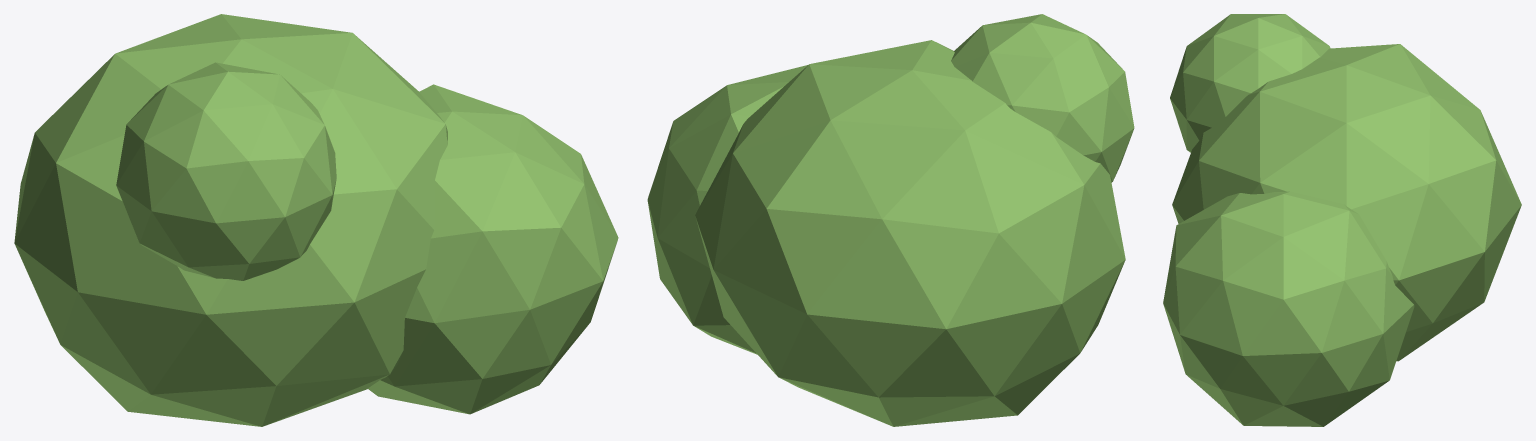
The model's file is bush.glb.
3 renders of one model, left to right at view 1: azimuth 30°, elevation 25°; view 2: azimuth 150°, elevation 25°; view 3: azimuth 270°, elevation 25°, orthographic. The views are drawn at different scales.
Visible parts, largest first — view 1: meadow-bush; view 2: meadow-bush; view 3: meadow-bush.
Part boxes in pixels (x1,y1,x2,y2): meadow-bush: (14, 14, 618, 426); meadow-bush: (647, 14, 1134, 426); meadow-bush: (1163, 14, 1521, 426).
Bounding box in the file's own units: 0.7167 × 0.5408 × 0.5683.
